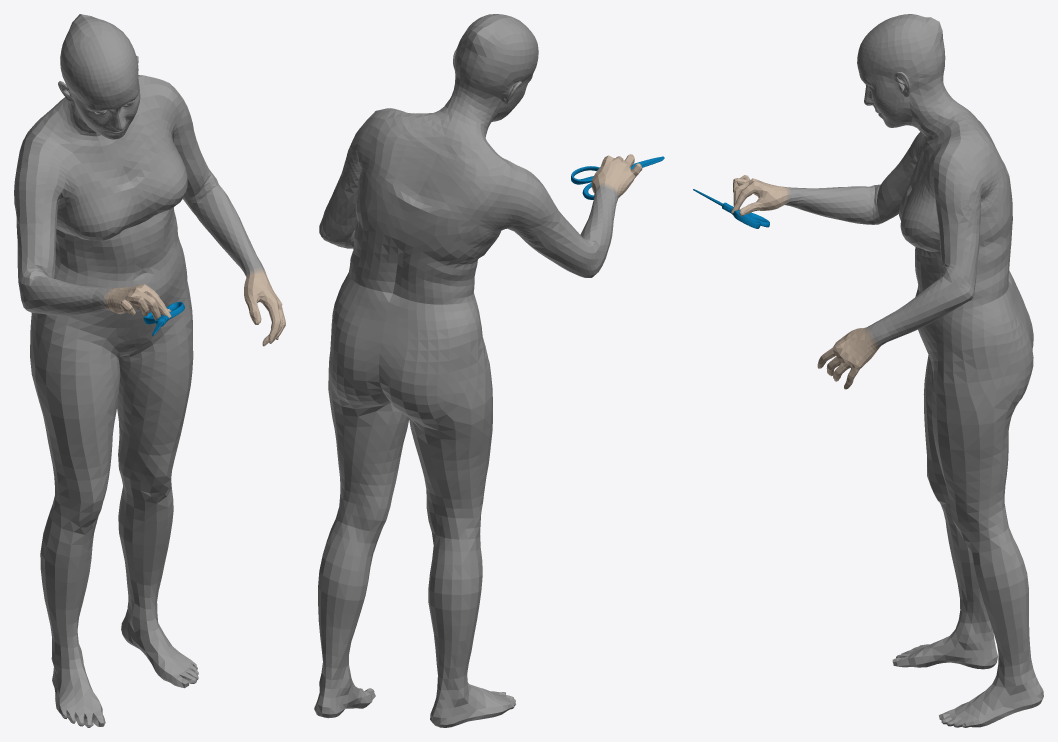
Rendered from ood_pick_scissors_full_1.glb.
3 views of the same model, side by side, from view 1: azimuth 30°, elevation 25°; view 2: azimuth 150°, elevation 25°; view 3: azimuth 270°, elevation 25° (orthographic). The views are drawn at different scales.
Parts seen in each view (by area): view 1: ood_pick_scissors_full_1.obj; view 2: ood_pick_scissors_full_1.obj; view 3: ood_pick_scissors_full_1.obj.
Boxes of the visible parts, x1,y1,x2,y2 form: ood_pick_scissors_full_1.obj: (14,14,285,727); ood_pick_scissors_full_1.obj: (314,14,664,727); ood_pick_scissors_full_1.obj: (693,14,1043,727).
Size of the model in its own units: 0.5795 by 1.59 by 0.7735.
